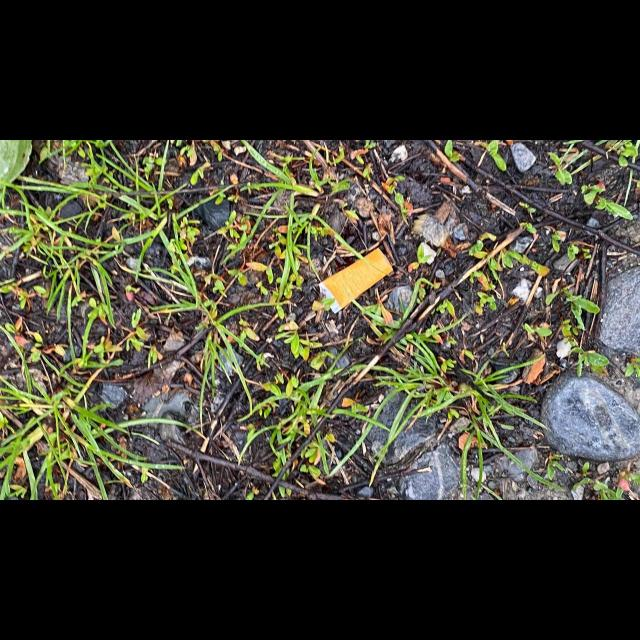cigarette: (317, 247, 394, 314)
